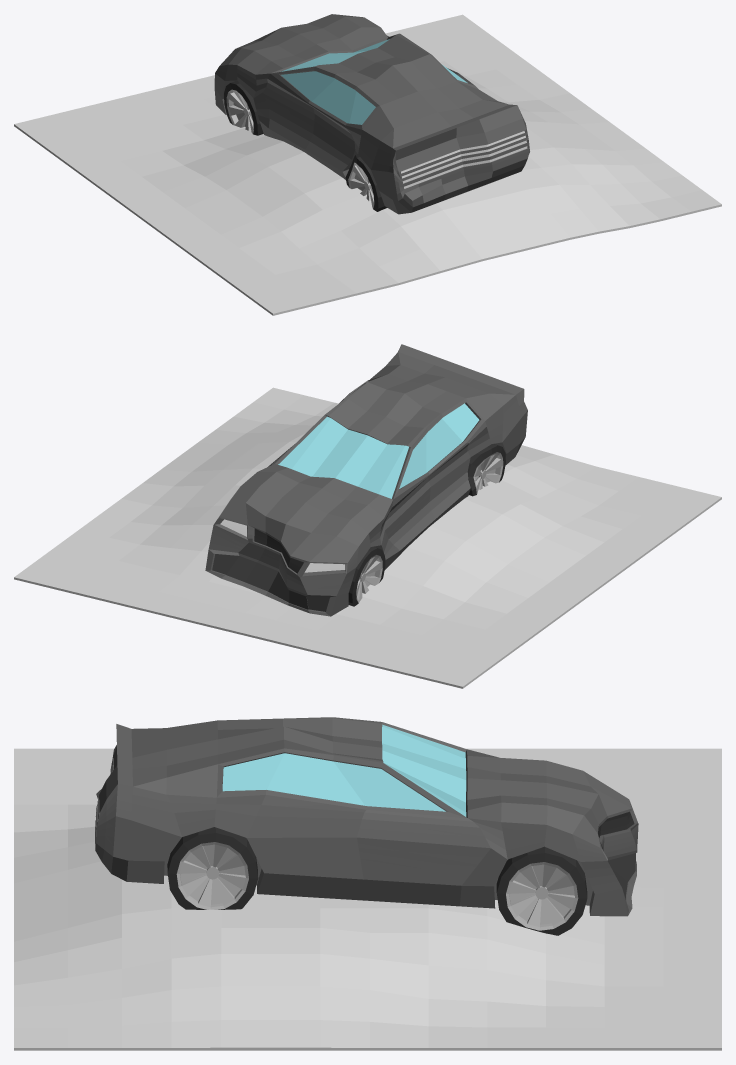
Rendered from car.fbx.
The picture shows the model from 3 angles, top to bottom: view 1: azimuth 30°, elevation 25°; view 2: azimuth 150°, elevation 25°; view 3: azimuth 270°, elevation 25°; orthographic projection. The views are drawn at different scales.
Parts seen in each view (by area): view 1: Plane, Cube; view 2: Plane, Cube; view 3: Plane, Cube.
Part boxes in pixels (left/top/right/bottom): Plane: left=14, top=14, right=721, bottom=315; Cube: left=214, top=14, right=529, bottom=214; Plane: left=14, top=387, right=721, bottom=688; Cube: left=205, top=344, right=527, bottom=616; Plane: left=14, top=748, right=721, bottom=1050; Cube: left=95, top=717, right=638, bottom=935.
Bounding box in the file's own units: 562 × 162 × 562.
